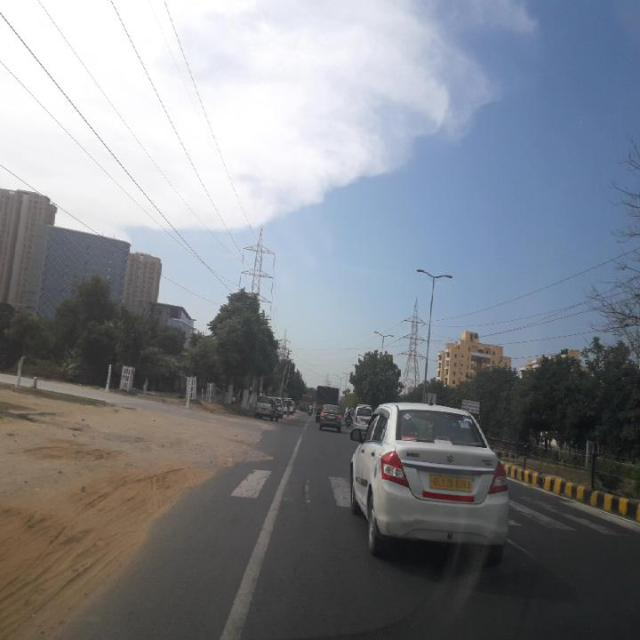D20: (211, 525, 468, 632)
